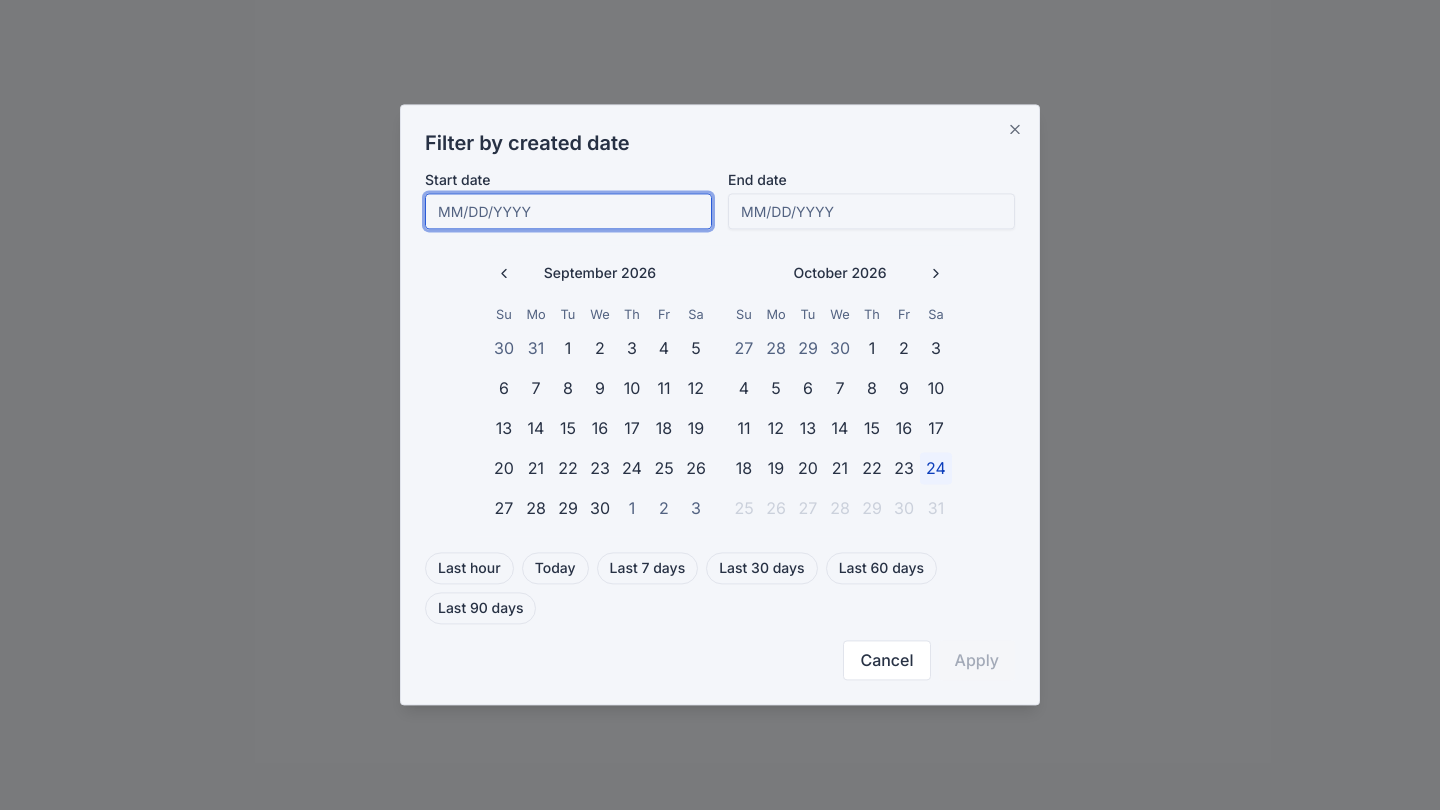
Test: DateRangeDialog › maxDays disables Apply and explains the limit for longer ranges
Type "01/01/2025" into the field labelled "Start date" at (568,211), box x1=425 y1=193 x2=712 y2=229
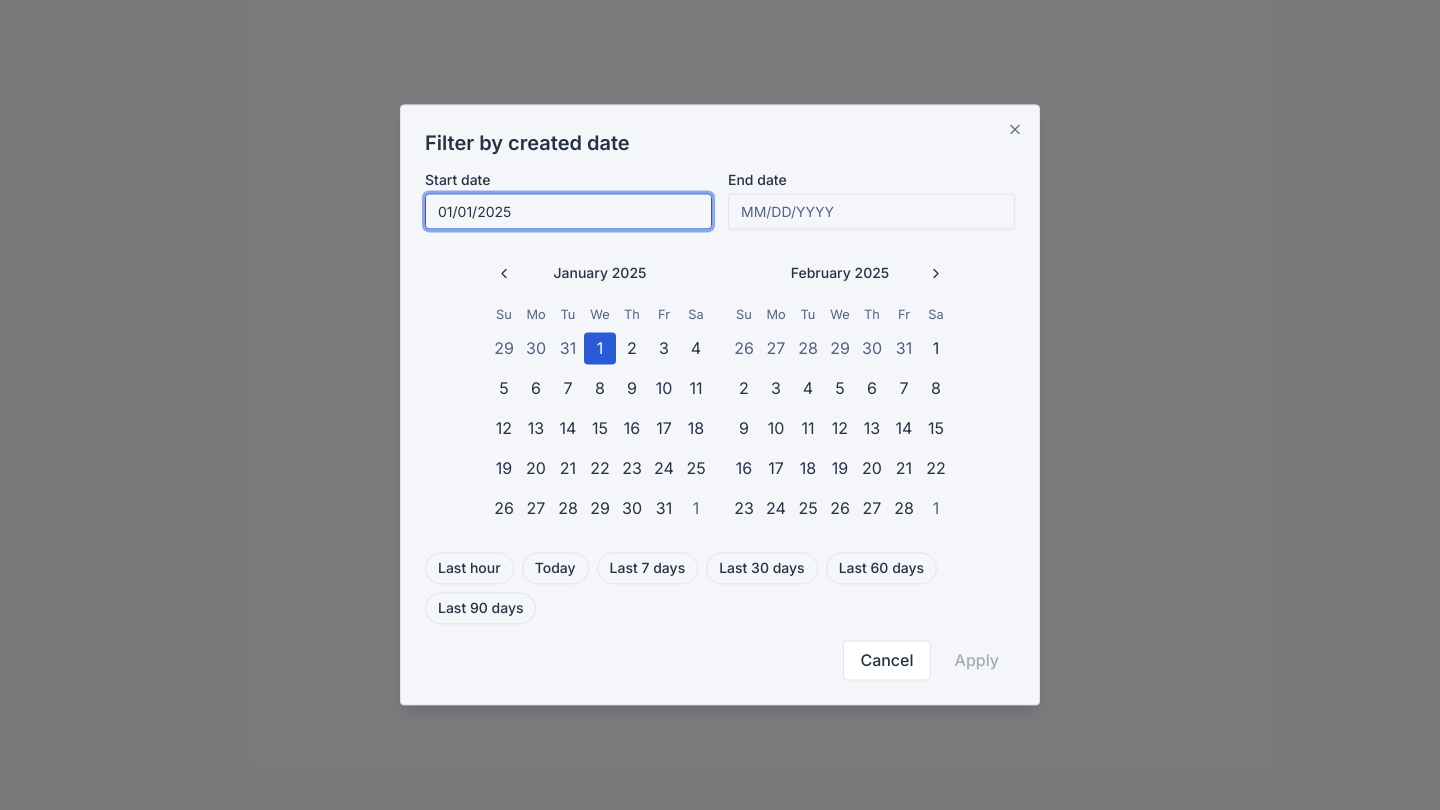
Type "10/24/2026" into the field labelled "End date" at (872,211), box x1=728 y1=193 x2=1015 y2=229
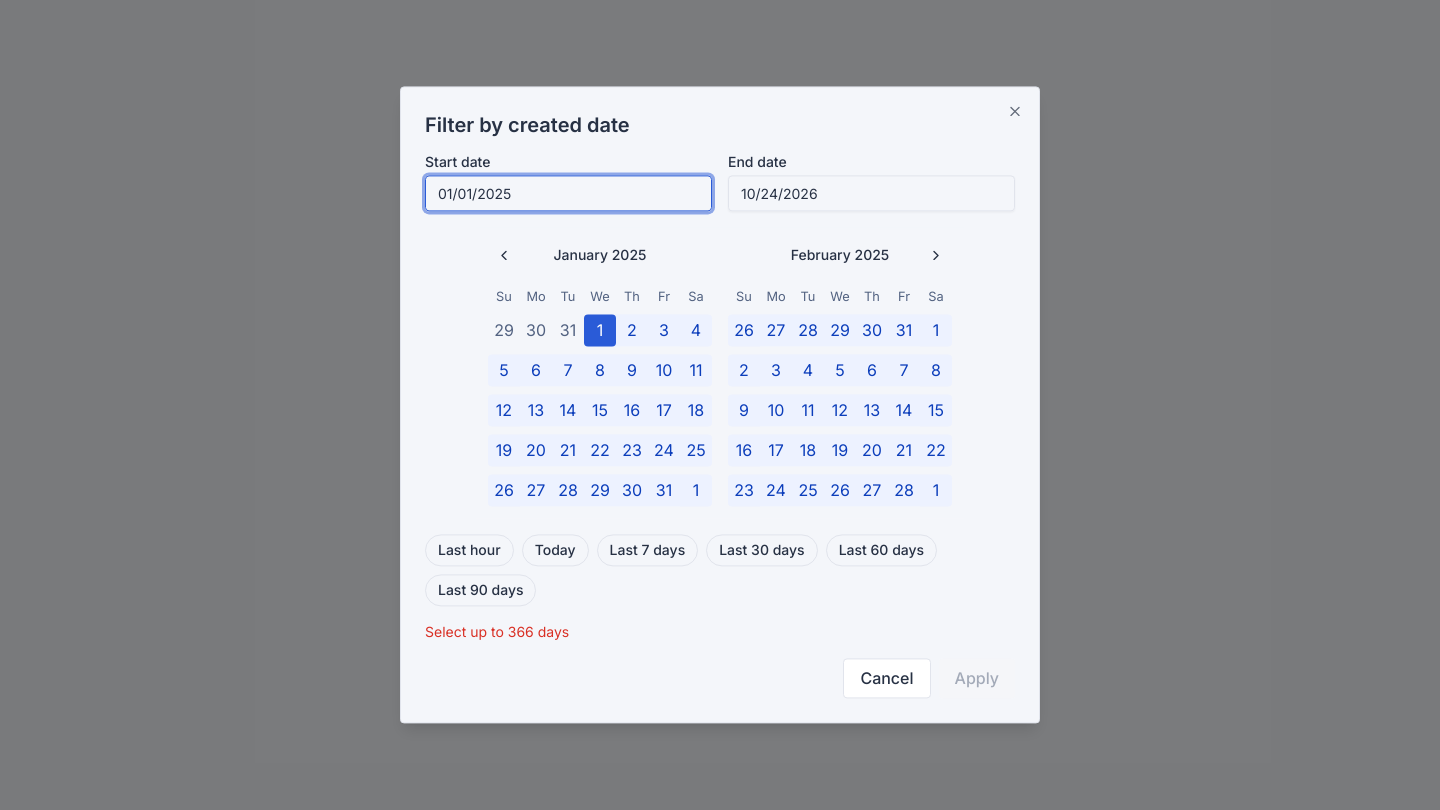
Expected: the button "Apply" is disabled, x1=938 y1=659 x2=1015 y2=699
Now the text "Select up to 366 days" is shown, box x1=425 y1=624 x2=569 y2=641
Replace the text in the field labelled "Start date" with "10/24/2025" at (568,193), box x1=425 y1=175 x2=712 y2=211
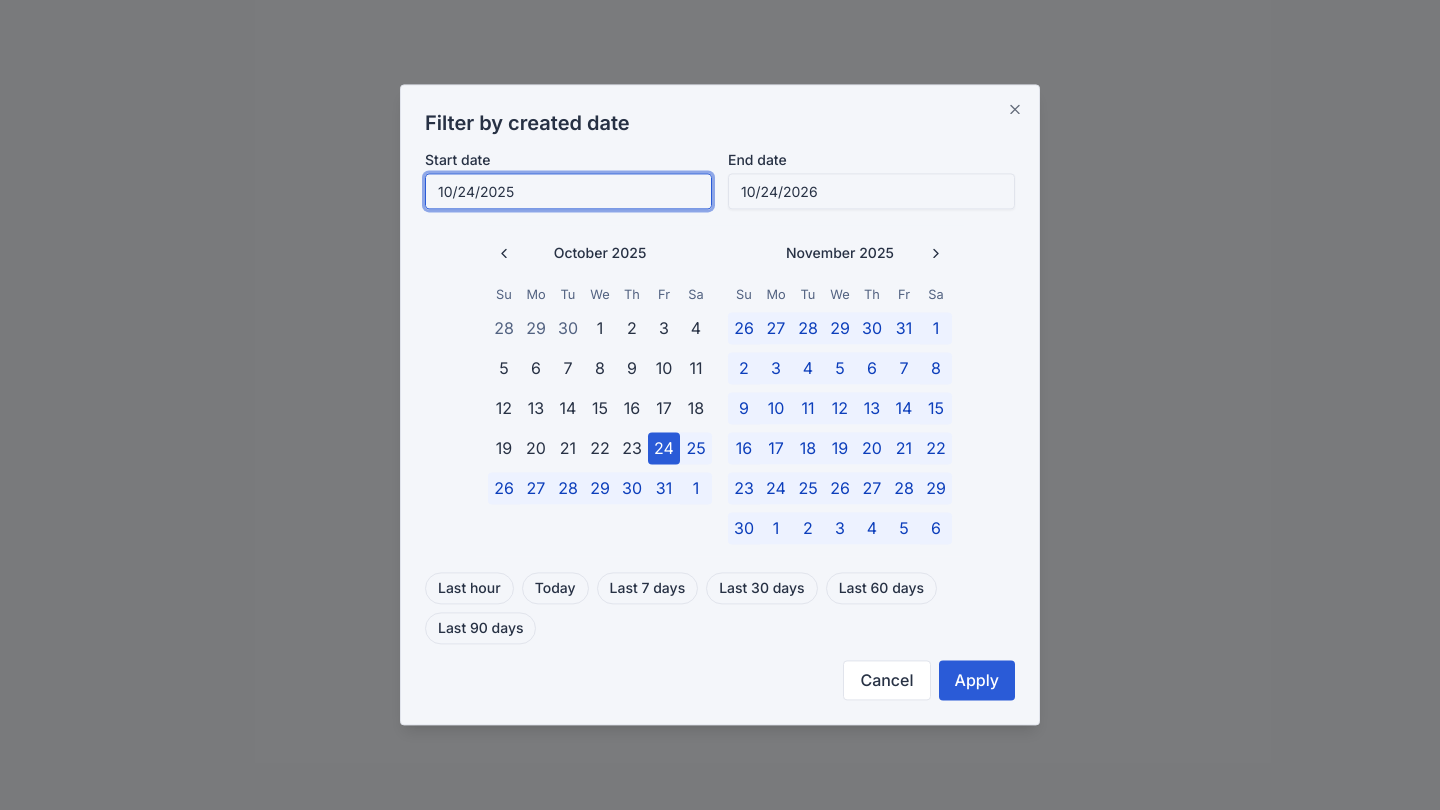
Now the text "Select up to 366 days" is gone
Now the button "Apply" is enabled, box x1=938 y1=661 x2=1015 y2=701
